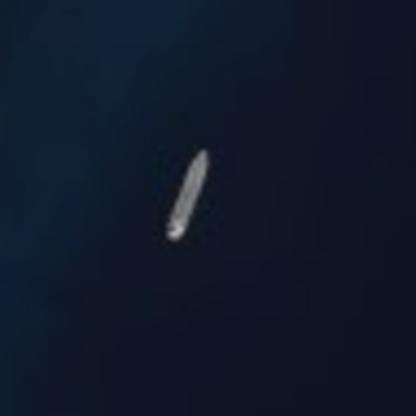ship: (158, 140, 217, 245)
